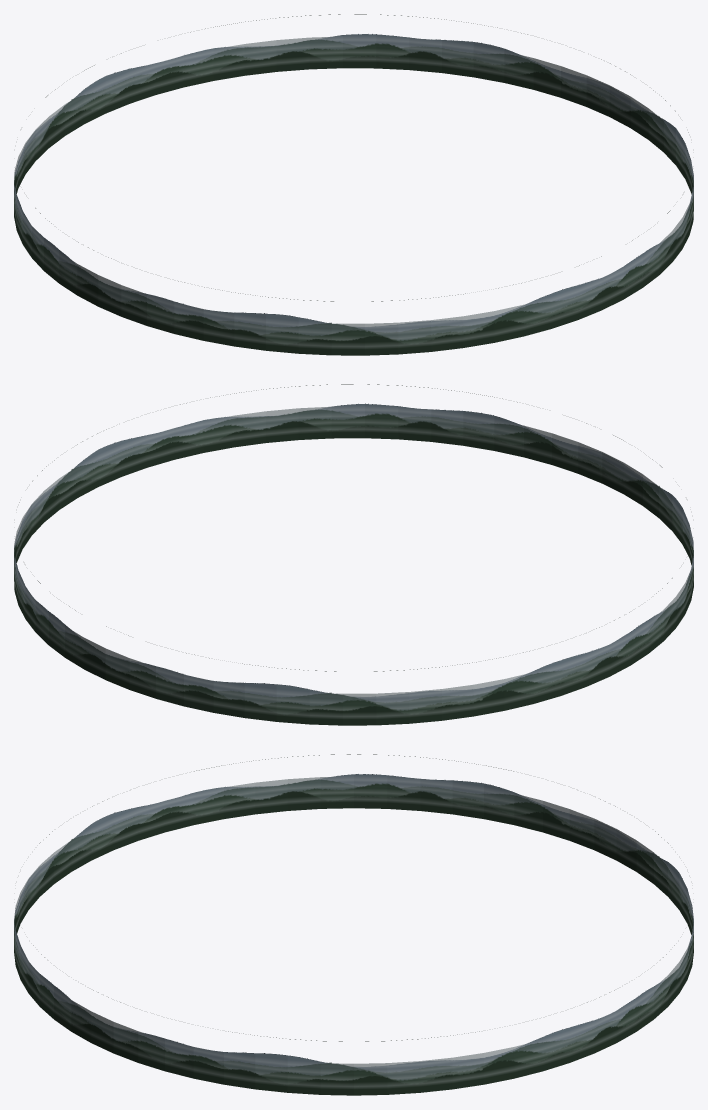
File: ardennes_ridges.glb
The picture shows the model from 3 angles, top to bottom: view 1: azimuth 30°, elevation 25°; view 2: azimuth 150°, elevation 25°; view 3: azimuth 270°, elevation 25°; orthographic projection.
Parts seen in each view (by area): view 1: ridges; view 2: ridges; view 3: ridges.
Boxes of the visible parts, left/top/right/bottom form: ridges: left=14, top=14, right=693, bottom=355; ridges: left=14, top=384, right=693, bottom=725; ridges: left=14, top=754, right=693, bottom=1095.
Bounding box in the file's own units: 4800 × 420 × 4800.
1 material, 1 textured.
